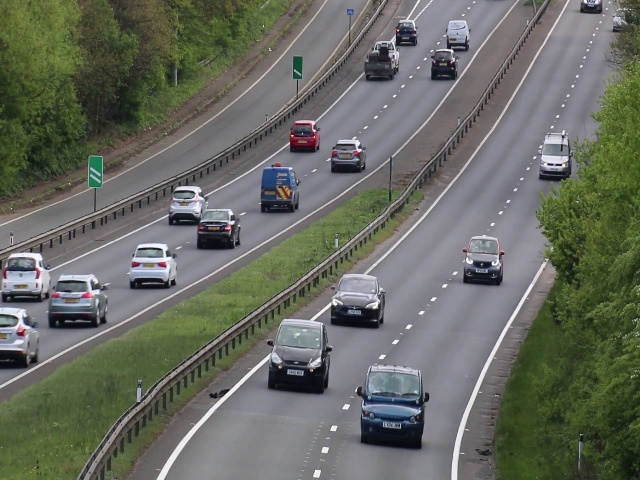car: (357, 361, 429, 448), (269, 317, 332, 397), (45, 273, 113, 328), (330, 272, 384, 329), (1, 249, 56, 303), (1, 309, 43, 367), (463, 234, 504, 288), (129, 244, 177, 290), (258, 166, 303, 214), (195, 208, 241, 250), (328, 135, 367, 176), (168, 184, 207, 222), (539, 133, 571, 179), (366, 42, 400, 81), (287, 117, 322, 154), (432, 46, 457, 82), (446, 18, 470, 50), (395, 22, 417, 45)
